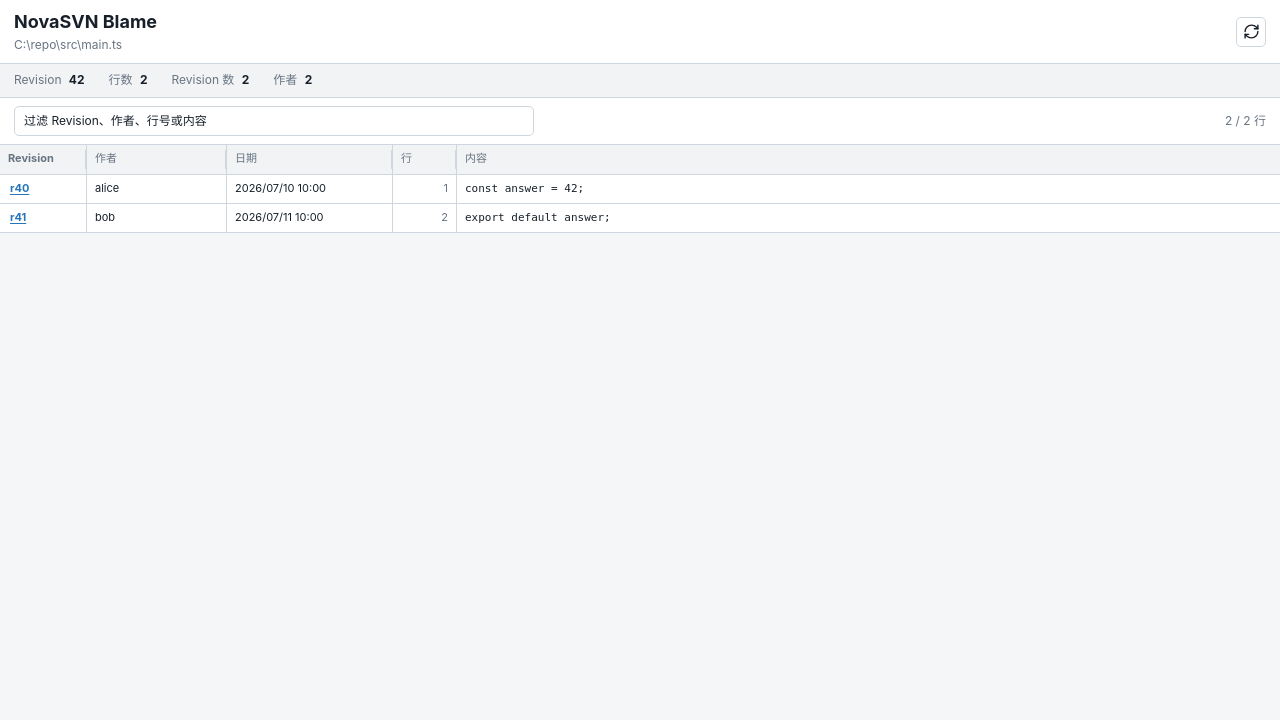
Test: StandaloneBlameWindow › 读取右键文件的逐行历史并支持过滤
Check: the text "const answer = 42;" is shown, box left=465, top=182, right=584, bottom=195
Check: the text "export default answer;" is shown, box left=465, top=211, right=611, bottom=224
Type "alice" into the search field named "过滤 Blame".
click(274, 121); type("alice")  # box left=14, top=106, right=534, bottom=136
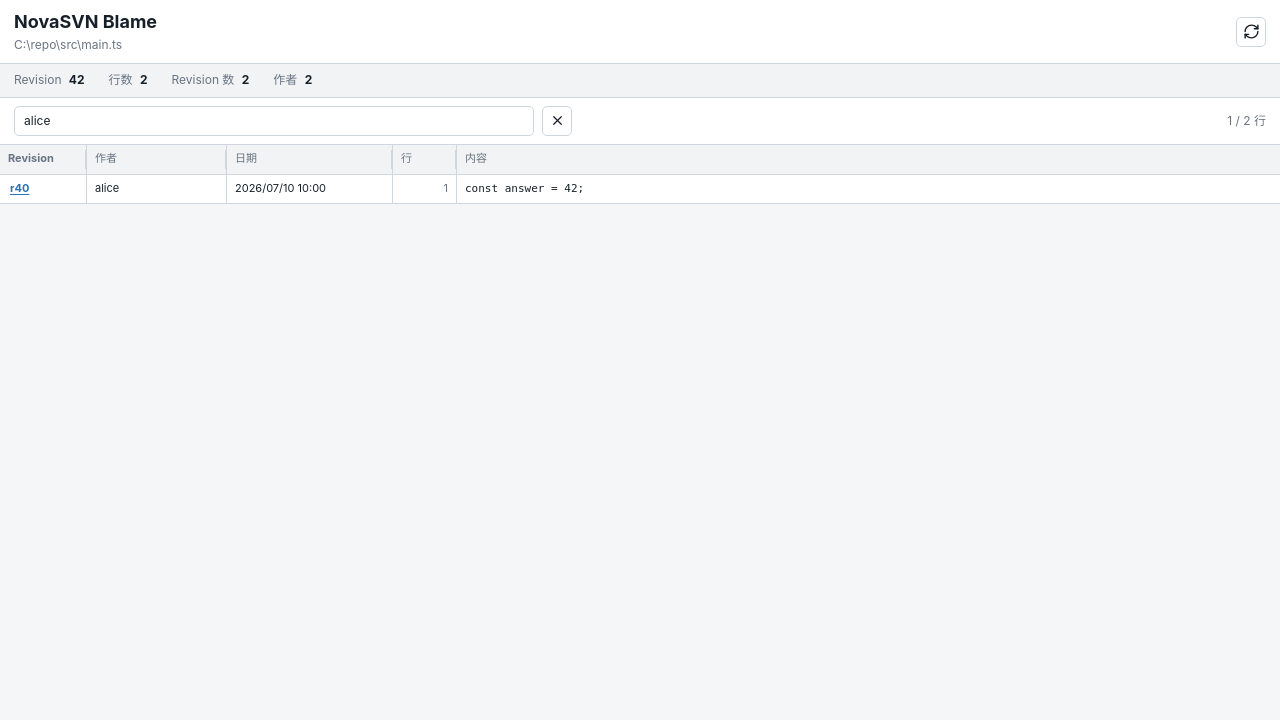
Check: the text "const answer = 42;" is shown, box left=465, top=182, right=584, bottom=195
Check: the text "export default answer;" is gone
